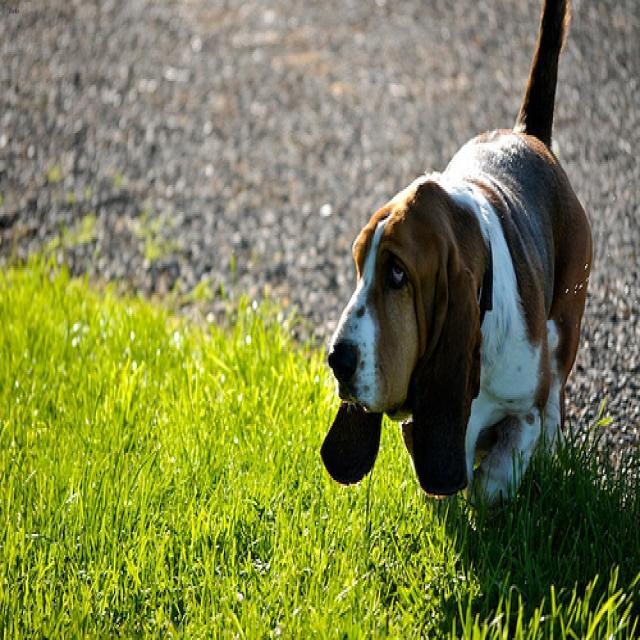dog-basset_hound: (312, 2, 598, 526)
